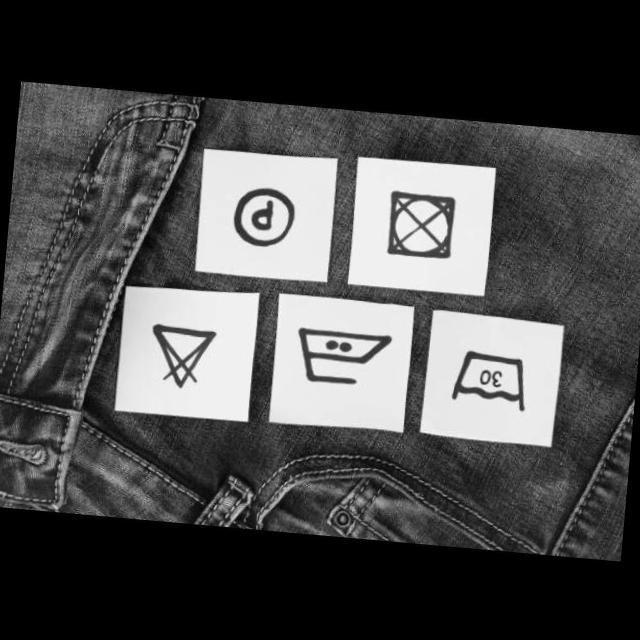30C: (448, 346, 532, 414)
DN_bleach: (145, 321, 218, 392)
DN_tumble_dry: (382, 186, 460, 262)
iron_medium: (288, 324, 394, 392)
normal_dry_clean_solvents: (228, 181, 298, 250)
